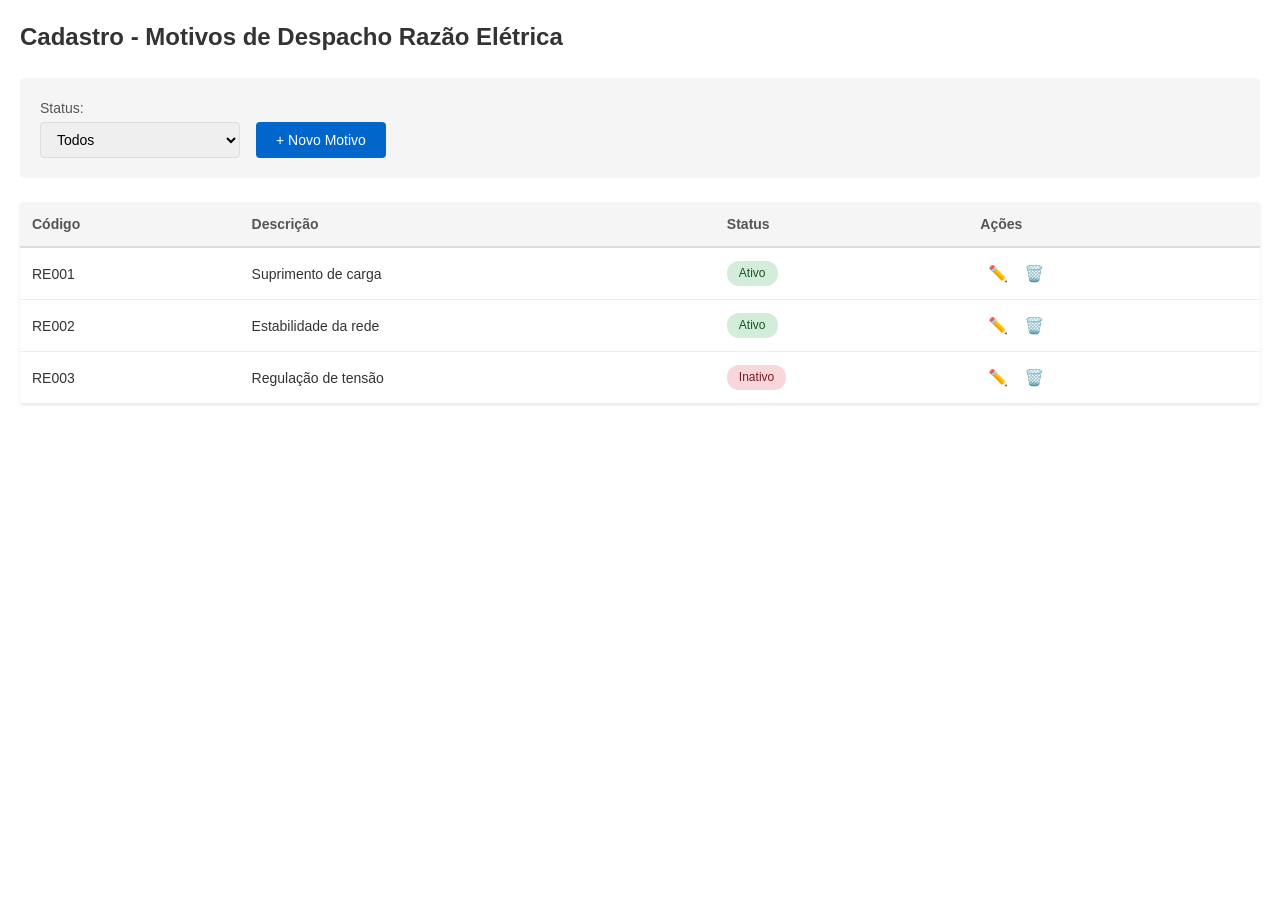
Test case: ElectricalDispatchReason Component › Diálogo de Criação/Edição › deve fechar diálogo ao clicar em Cancelar
Click the button with test id "btn-novo-motivo". click: (321, 140)
box: [256,122,386,158]
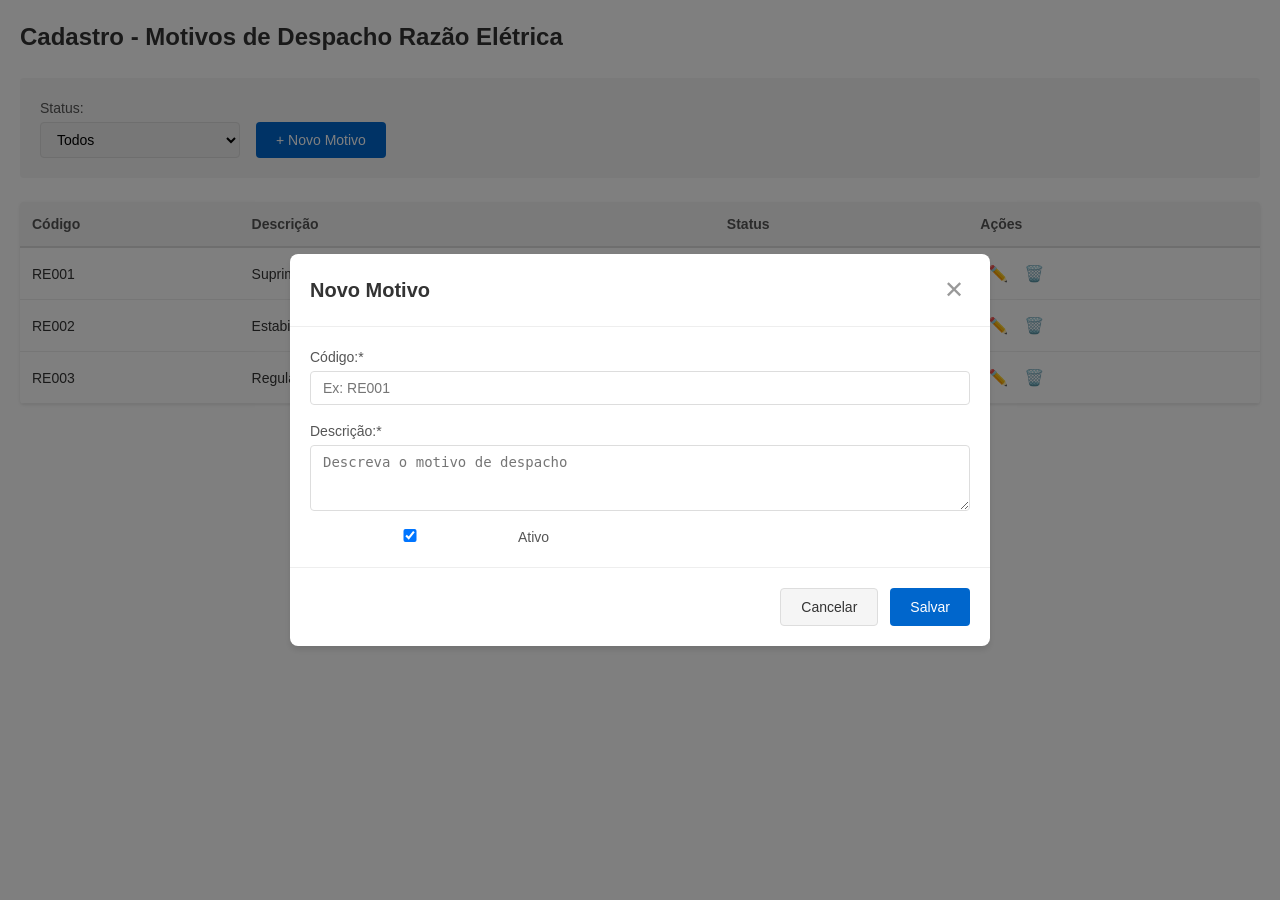
expect the element with test id "dialog-form" is shown: met
Click the button with test id "btn-cancel". click: (829, 607)
box: [780,588,878,626]
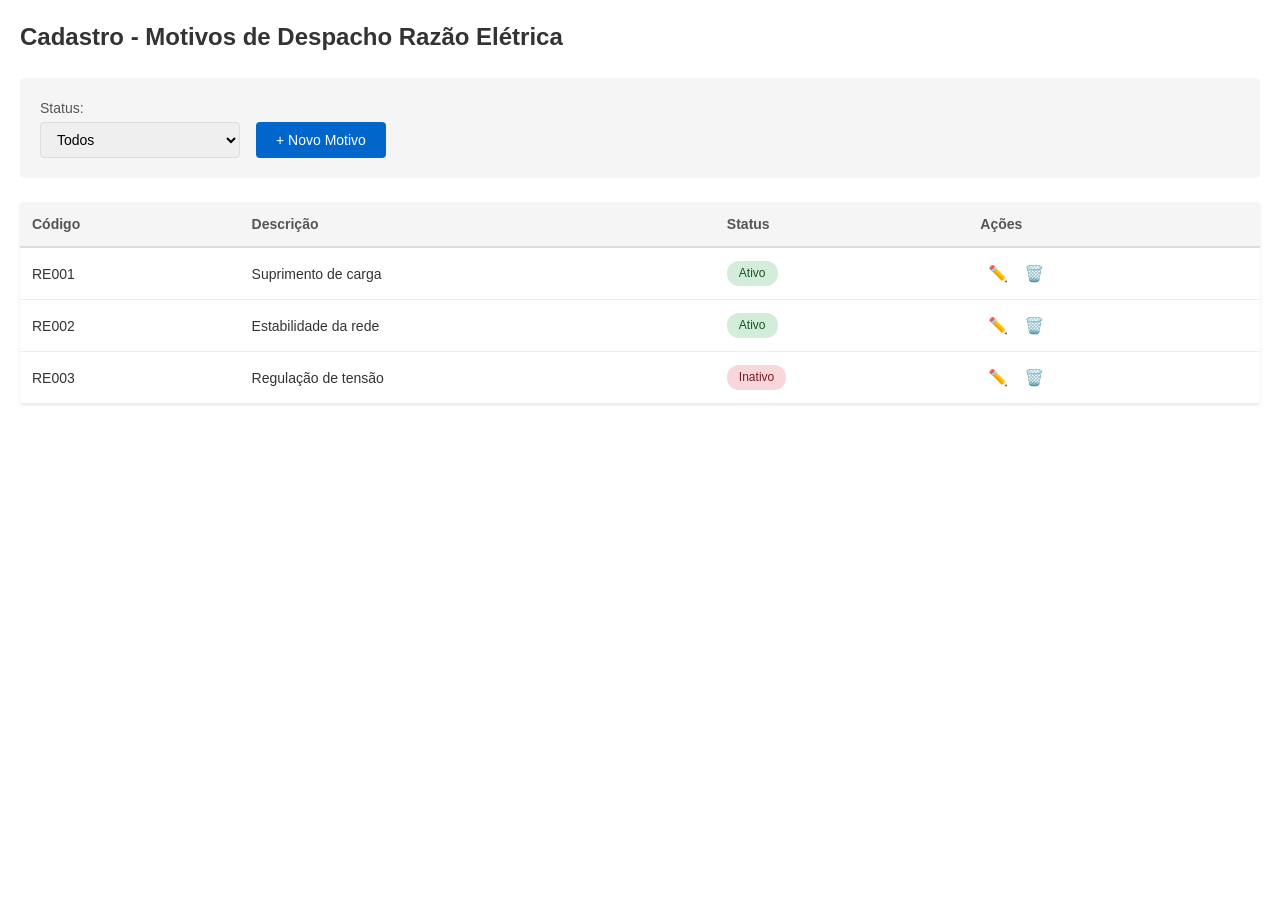
expect the element with test id "dialog-form" is gone: met
